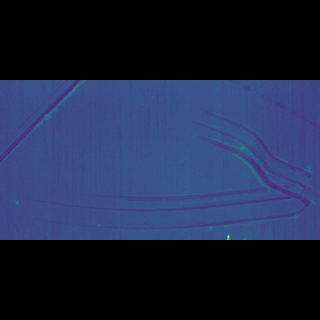Loch: (10, 132, 313, 196), (1, 119, 94, 163), (225, 111, 318, 146)
